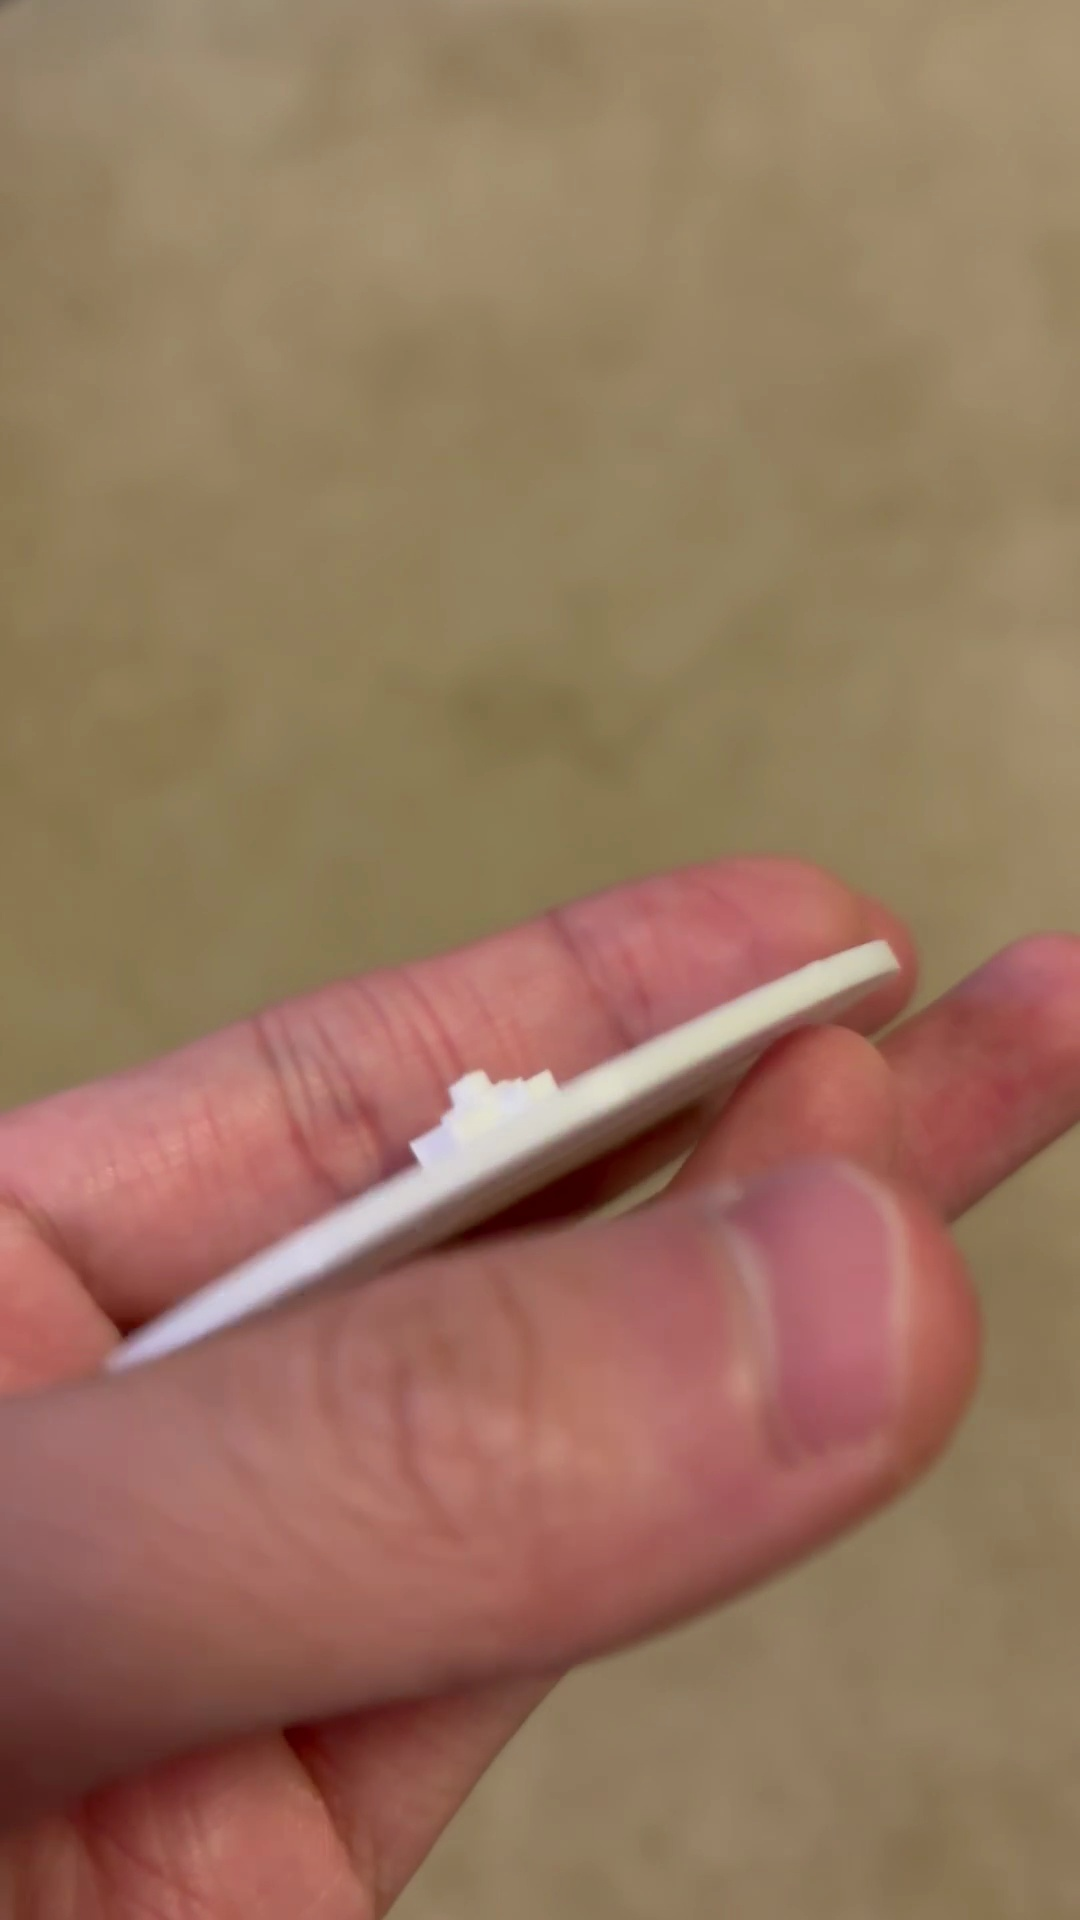Part1: (113, 942, 897, 1367)
